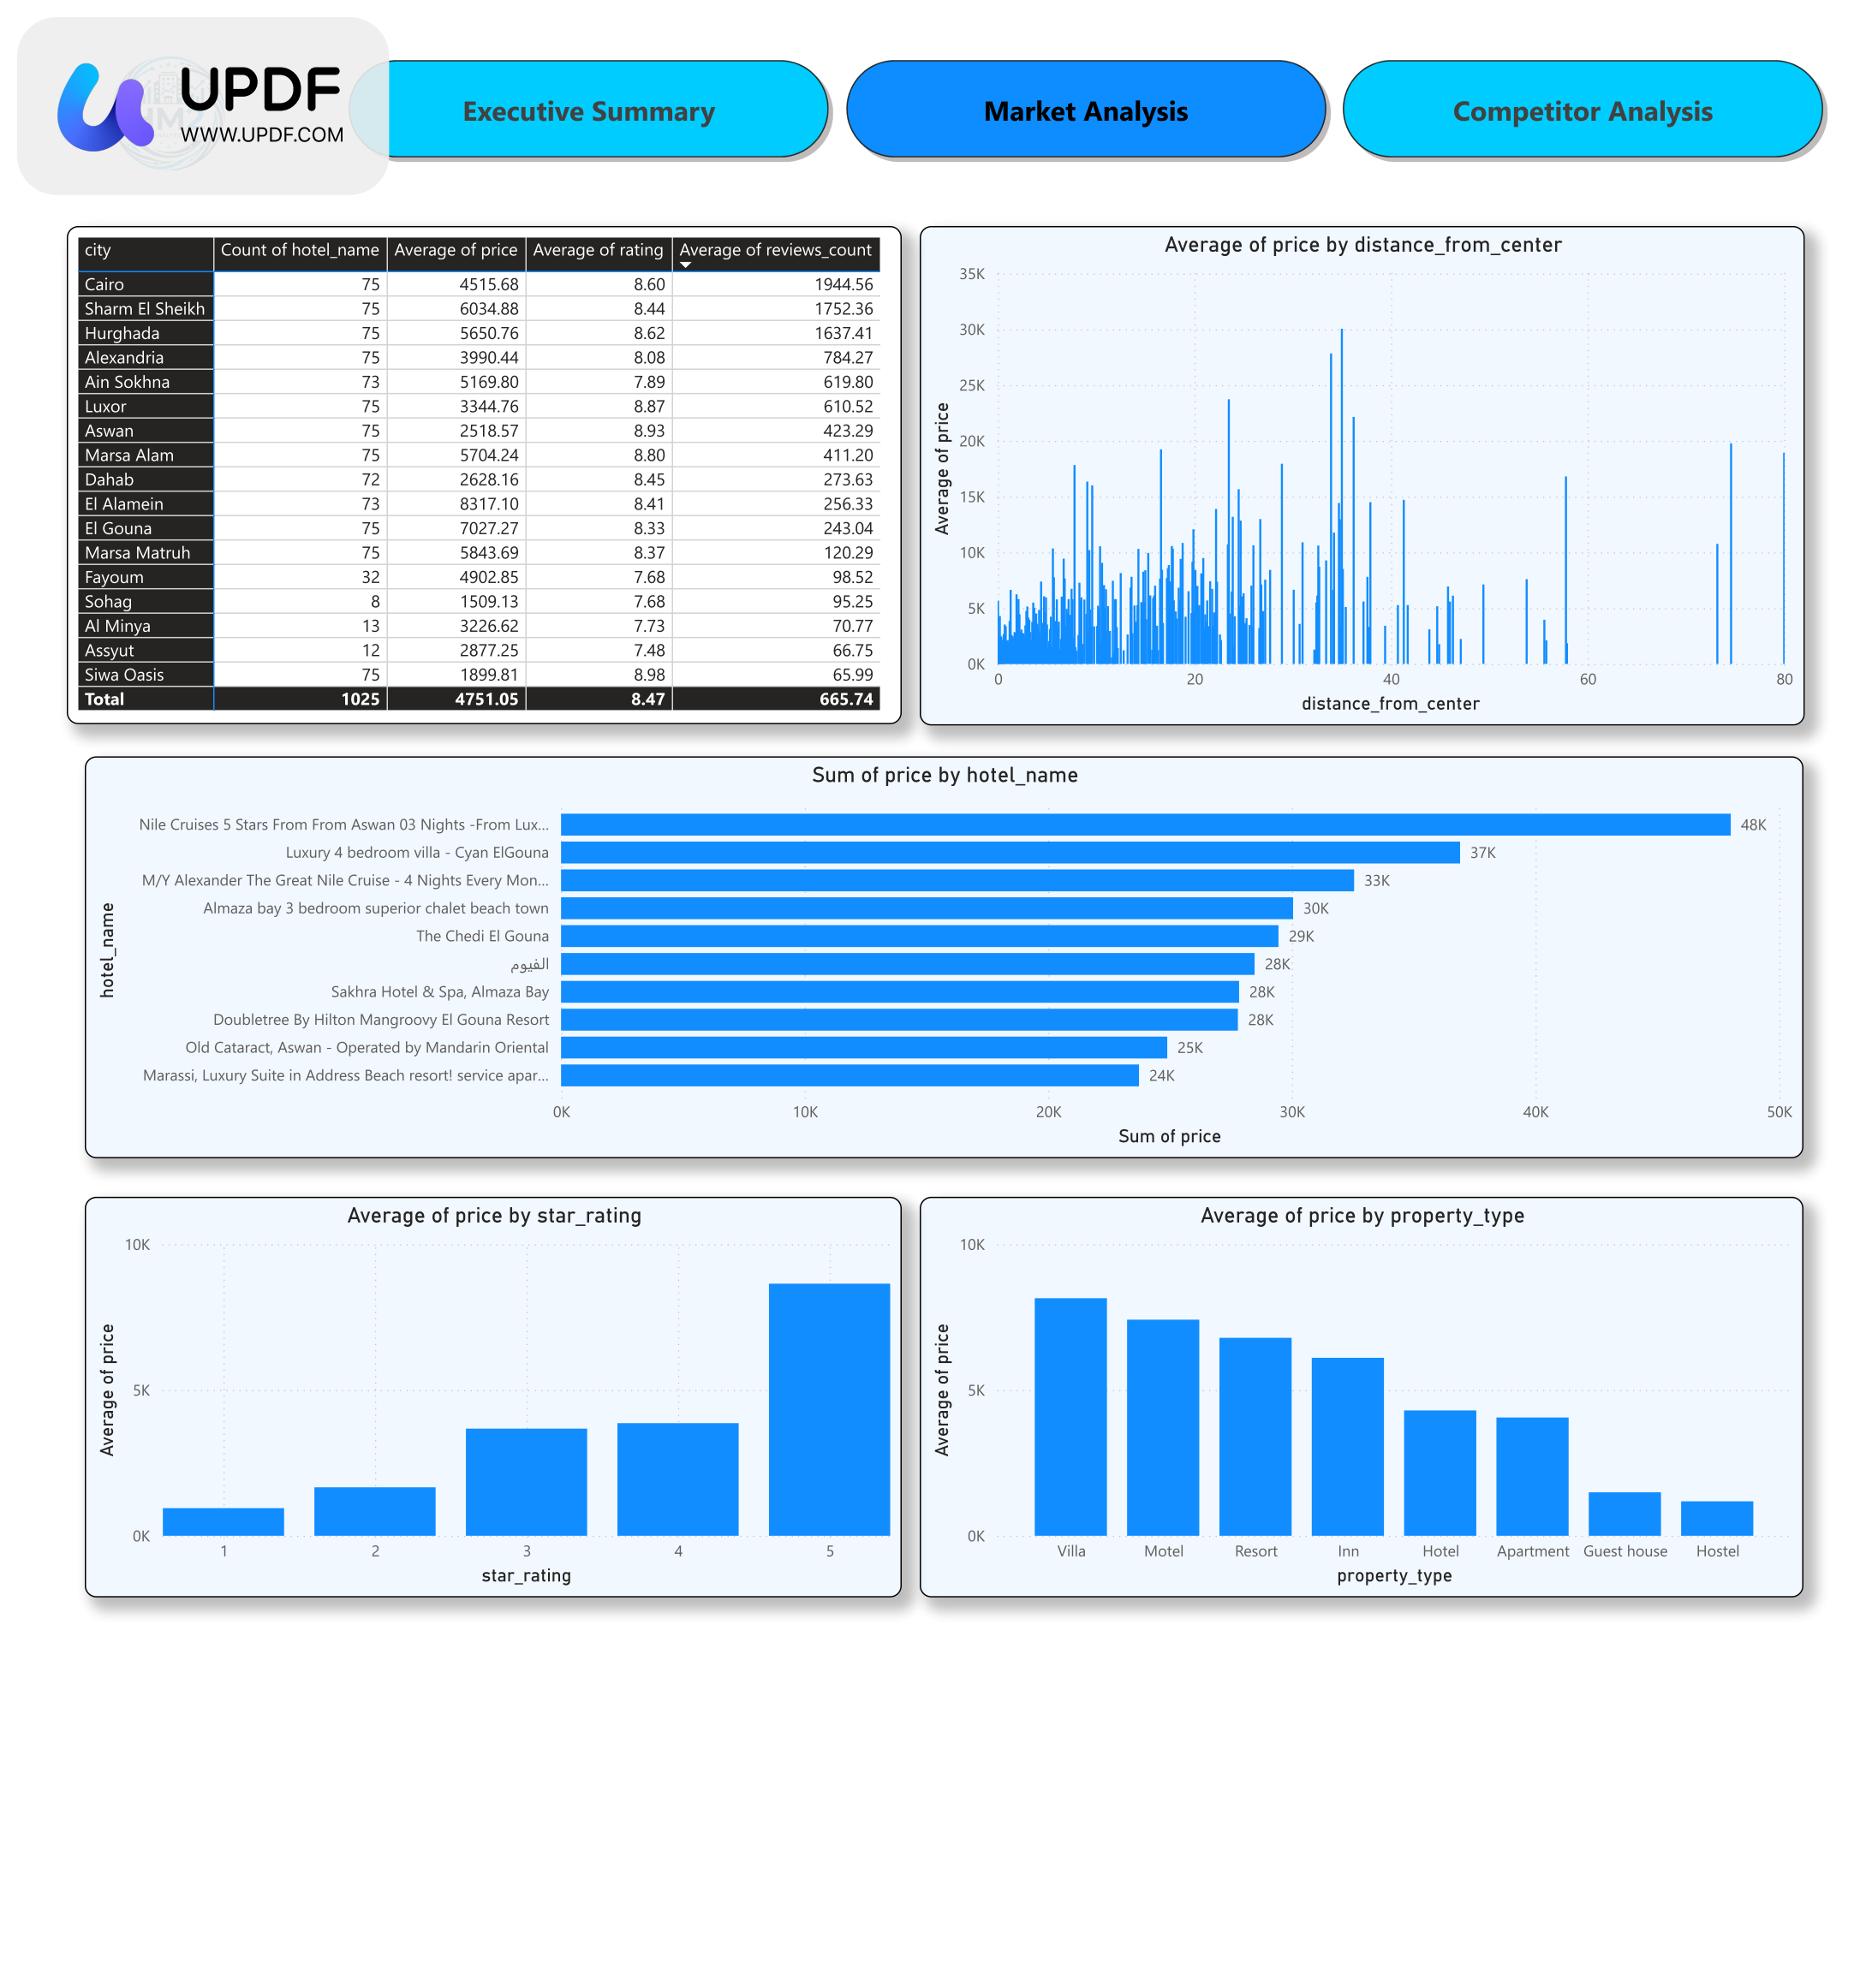

The page's visual inventory and layout, read from the dashboard file:
{"tool":"powerbi","page":{"name":"Market Analysis","canvas":[1400,1500],"ordinal":1},"visuals":[{"type":"pageNavigator","box":[243.3,18.3,1156.7,85],"z":0},{"type":"pivotTable","fields":{"Rows":["Hotels_Cleaned1.city"],"Values":["Count(Hotels_Cleaned1.hotel_name)","Avg(Hotels_Cleaned1.price)","Avg(Hotels_Cleaned1.rating)","Avg(Hotels_Cleaned1.reviews_count)"]},"box":[28.3,151.7,650,388.3],"z":1000},{"type":"clusteredBarChart","fields":{"Category":["Hotels_Cleaned1.hotel_name"],"Y":["Sum(Hotels_Cleaned1.price)"]},"box":[41.7,565,1338.3,313.3],"z":2000},{"type":"clusteredColumnChart","fields":{"Y":["Avg(Hotels_Cleaned1.price)"],"Category":["Hotels_Cleaned1.distance_from_center"]},"box":[692,152,688.9,388.9],"z":3000},{"type":"columnChart","fields":{"Y":["Avg(Hotels_Cleaned1.price)"],"Category":["Hotels_Cleaned1.star_rating"]},"box":[41.7,908.3,636.7,311.7],"z":4000},{"type":"columnChart","fields":{"Category":["Hotels_Cleaned1.property_type"],"Y":["Avg(Hotels_Cleaned1.price)"]},"box":[691.7,908.3,688.3,311.7],"z":5000},{"type":"image","box":[0,0,214.3,128.6],"z":6000}]}

Visuals, with their boxes in screenshot pixels (x1, y1, x2, y2), scaled from the page's 1400x1500 canvas onto the 1860x1988 screenshot:
pageNavigator: region(323, 24, 1859, 137)
pivotTable - Hotels_Cleaned1.city x Count(Hotels_Cleaned1.hotel_name): region(38, 201, 901, 716)
clusteredBarChart - Hotels_Cleaned1.hotel_name x Sum(Hotels_Cleaned1.price): region(56, 749, 1833, 1164)
clusteredColumnChart - Avg(Hotels_Cleaned1.price) x Hotels_Cleaned1.distance_from_center: region(920, 201, 1834, 717)
columnChart - Avg(Hotels_Cleaned1.price) x Hotels_Cleaned1.star_rating: region(56, 1204, 901, 1617)
columnChart - Hotels_Cleaned1.property_type x Avg(Hotels_Cleaned1.price): region(919, 1204, 1833, 1617)
image: region(0, 0, 284, 170)
